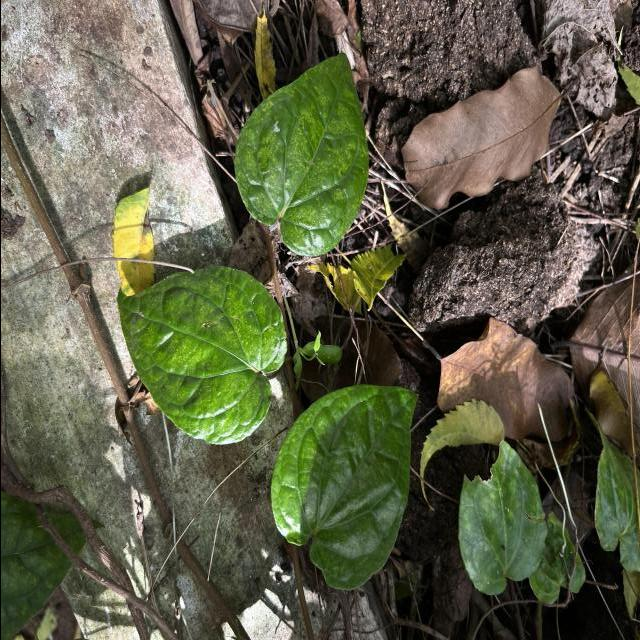Piper betle: (268, 382, 421, 592), (115, 264, 288, 446), (230, 51, 370, 260)
